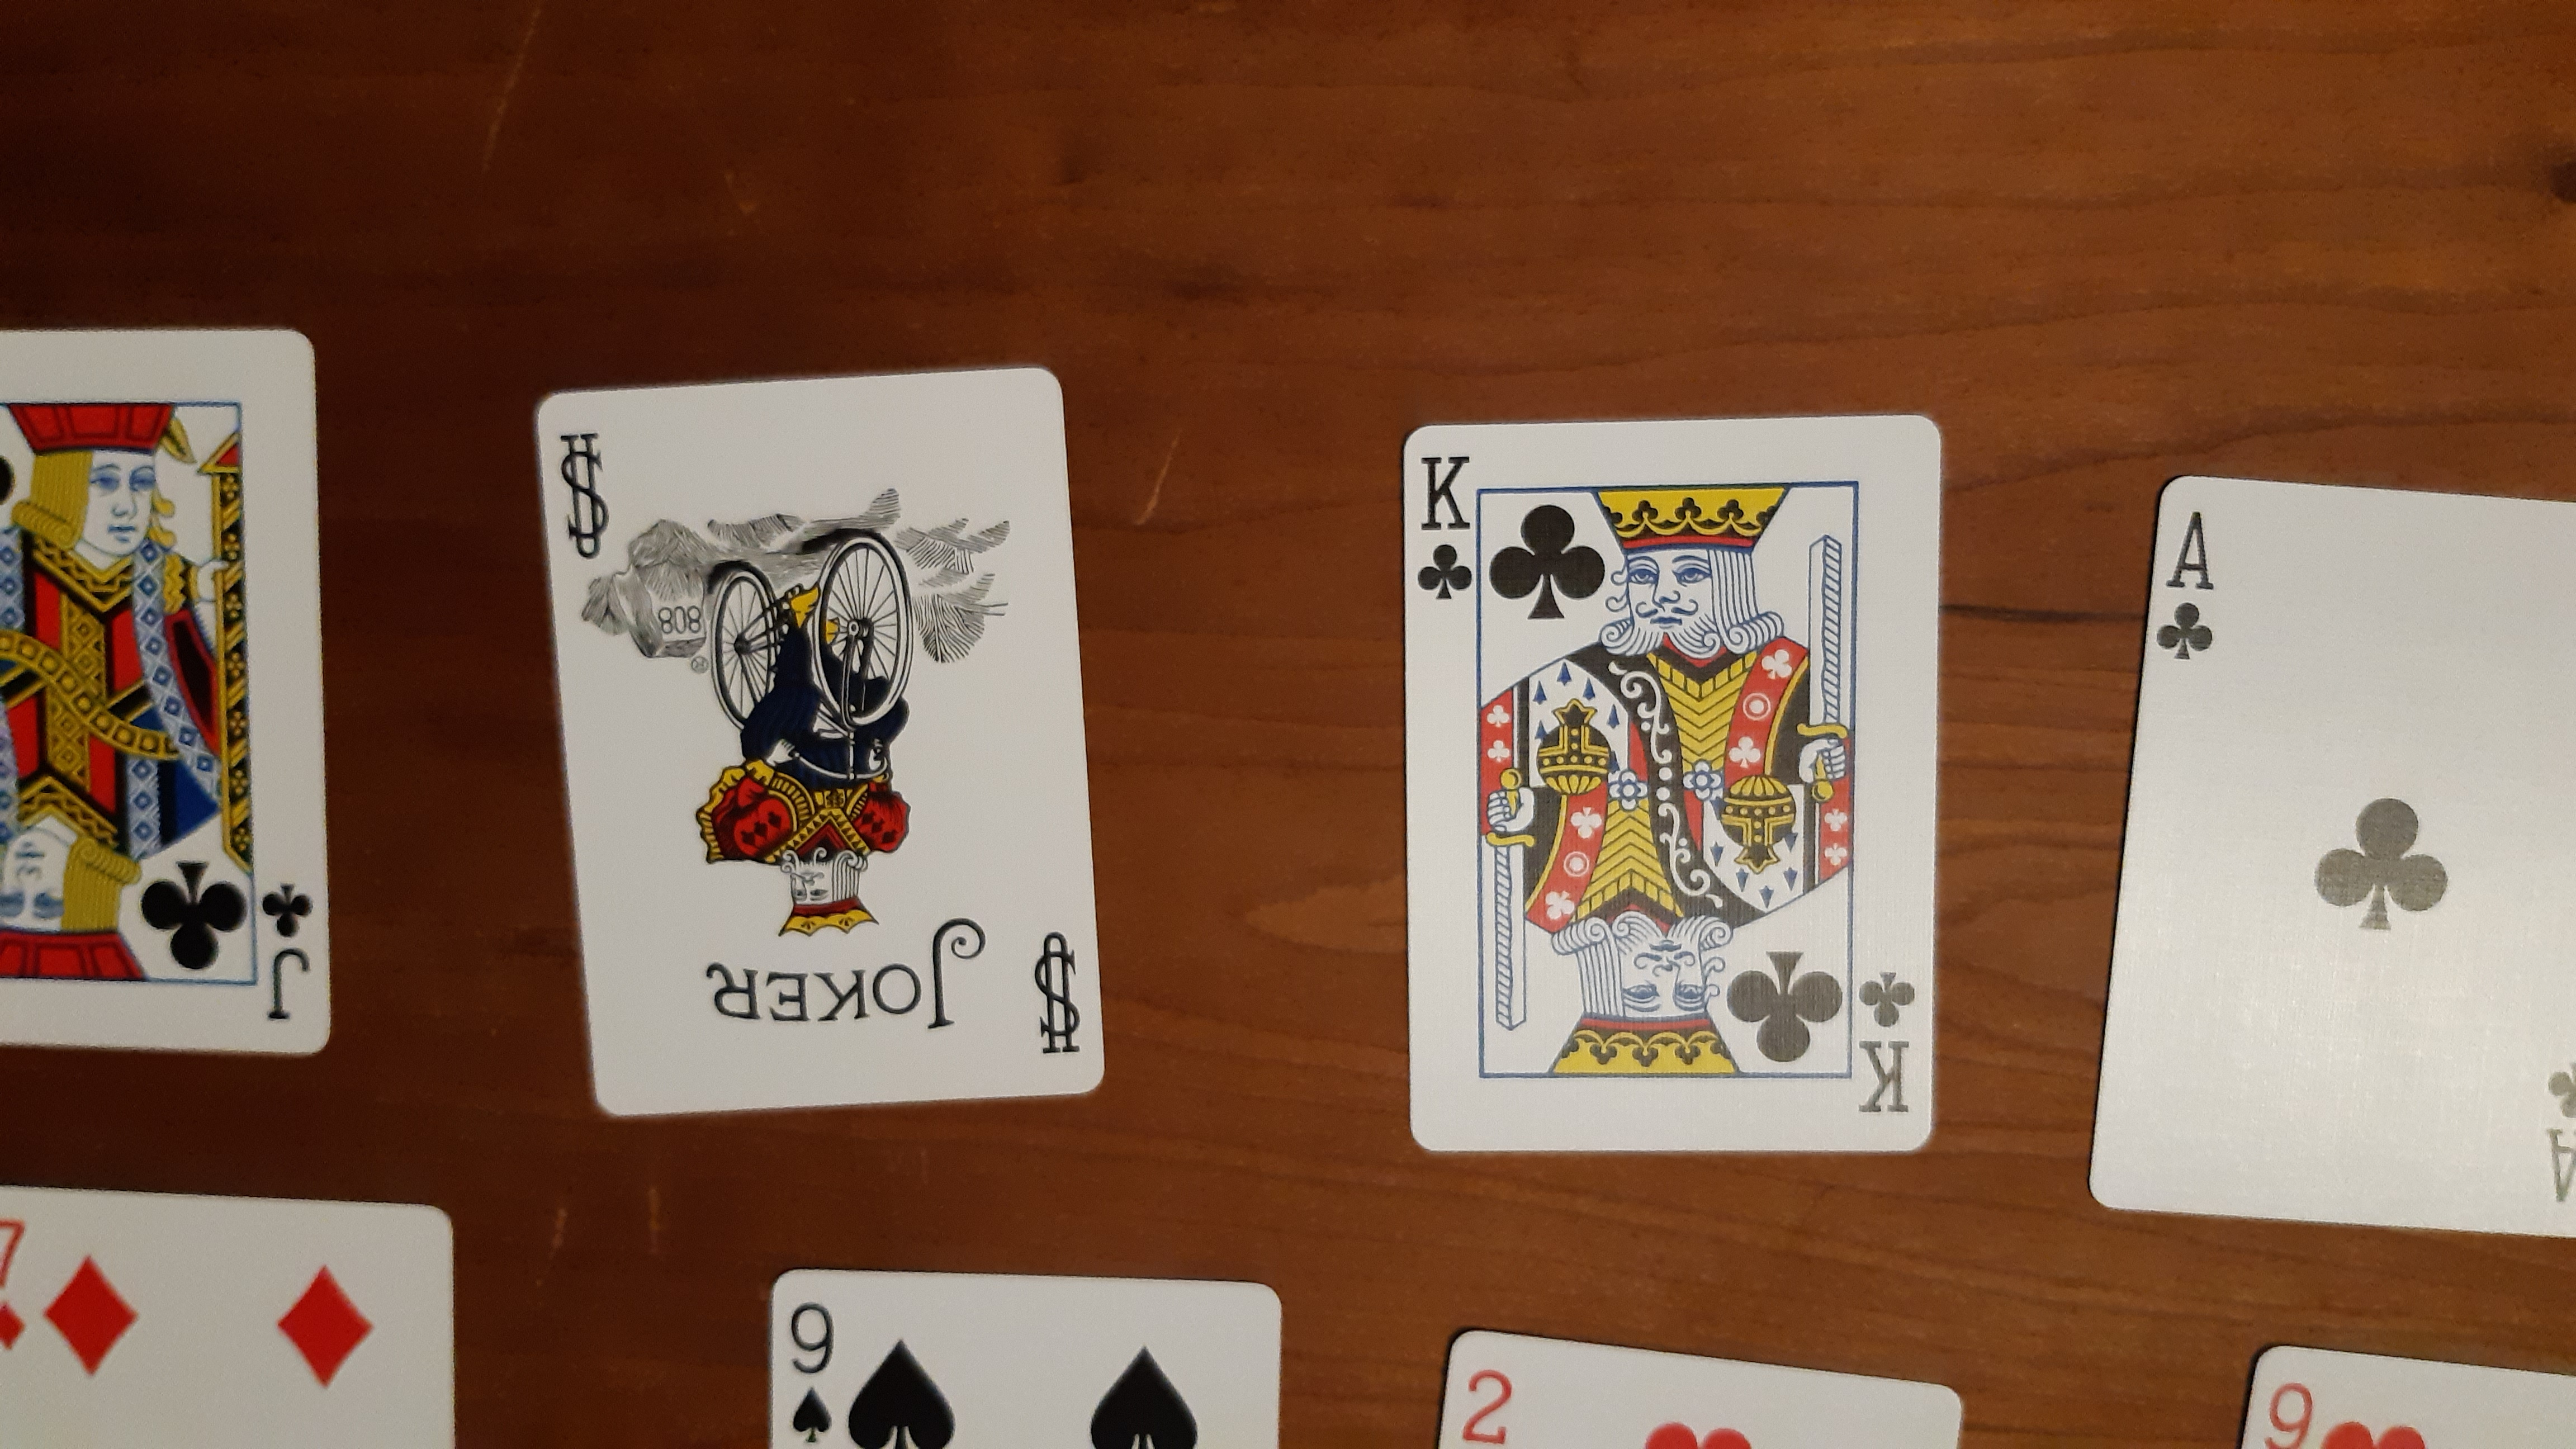Black_Club_Ace: (2150, 501, 2220, 676), (2537, 1054, 2576, 1207)
Black_Club_Jack: (253, 878, 322, 1028)
Black_Club_King: (1849, 962, 1923, 1123), (1412, 446, 1481, 603)
Joker: (701, 911, 991, 1042)
